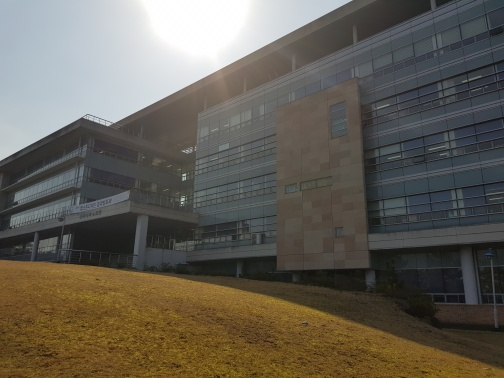Engineering College Building 4: (29, 75, 492, 262), (297, 15, 494, 284), (58, 183, 227, 256)
